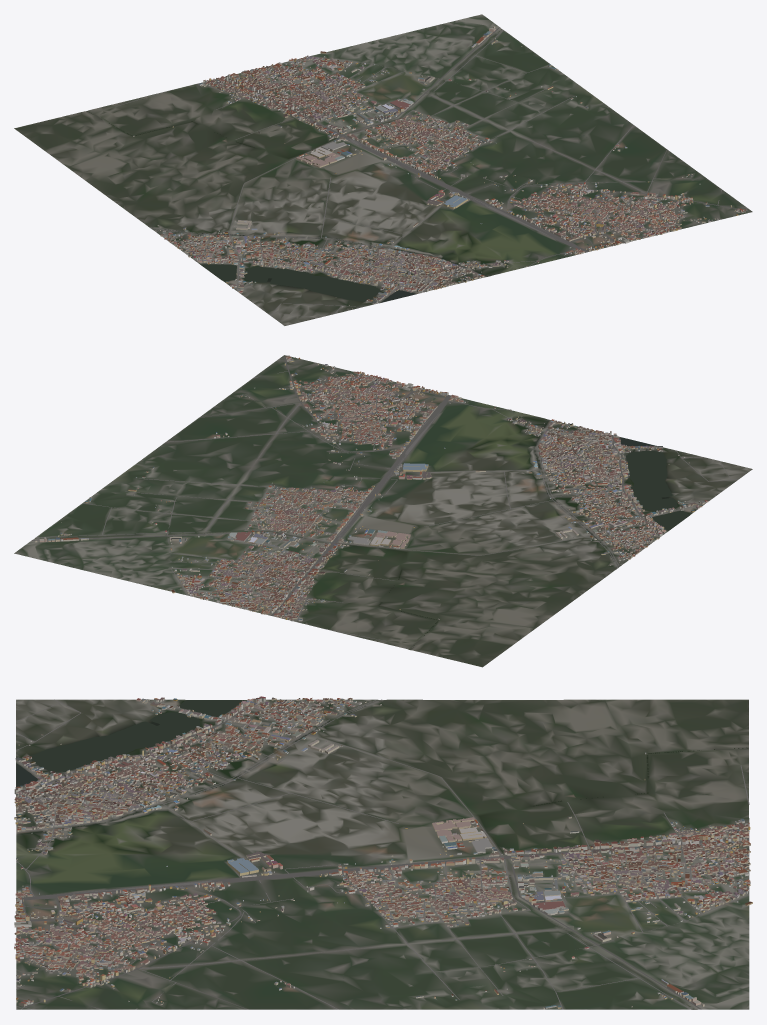
The picture shows the model from 3 angles, top to bottom: view 1: azimuth 30°, elevation 25°; view 2: azimuth 150°, elevation 25°; view 3: azimuth 270°, elevation 25°; orthographic projection. The views are drawn at different scales.
Visible parts, largest first — view 1: ground, buildings, roads, water; view 2: ground, buildings, roads, water; view 3: ground, buildings, roads, water.
Part boxes in pixels (x1,y1,x2,y2): ground: (14, 14, 752, 325); buildings: (133, 26, 746, 308); roads: (116, 27, 750, 317); water: (87, 29, 588, 302); ground: (14, 355, 752, 667); buildings: (35, 355, 708, 621); roads: (31, 356, 737, 641); water: (35, 398, 689, 649); ground: (16, 699, 749, 1009); buildings: (14, 696, 752, 1009); roads: (16, 699, 749, 1009); water: (16, 700, 747, 1009).
Size of the model in its own units: 2812 by 30.71 by 2827.
